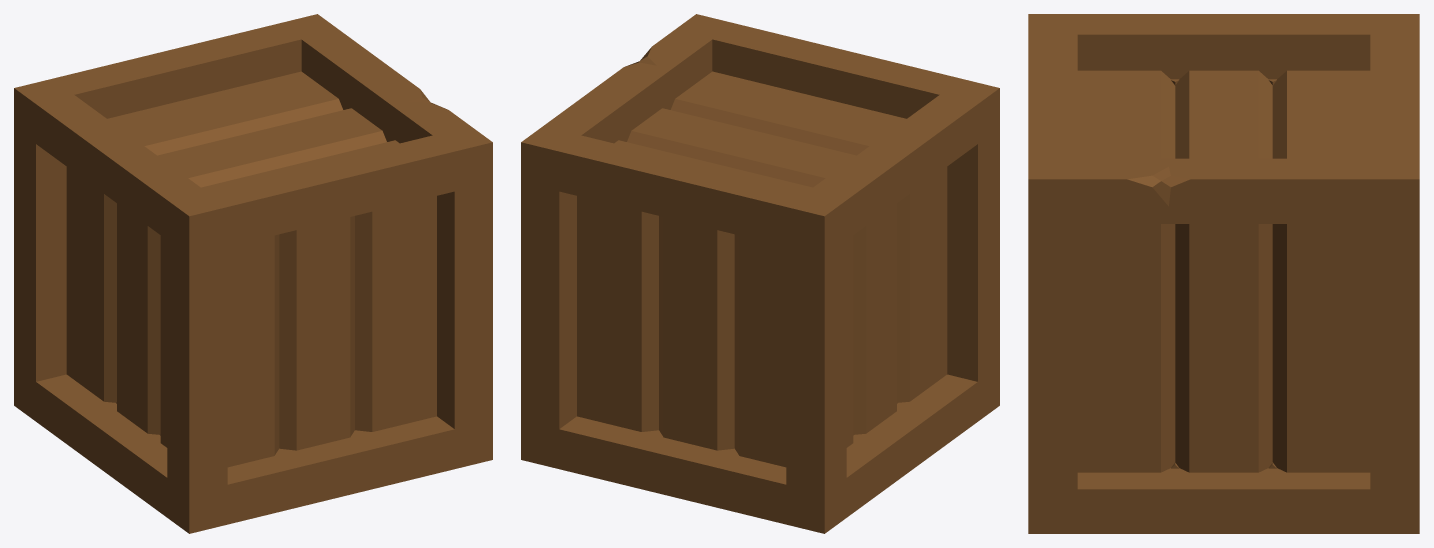
File: woodbox.fbx
The picture shows the model from 3 angles, left to right: view 1: azimuth 30°, elevation 25°; view 2: azimuth 150°, elevation 25°; view 3: azimuth 270°, elevation 25°; orthographic projection. The views are drawn at different scales.
Visible parts, largest first — view 1: Cube; view 2: Cube; view 3: Cube.
Part boxes in pixels (box(x1,y1,x2,y2)): Cube: box(14, 14, 492, 533); Cube: box(521, 14, 999, 533); Cube: box(1028, 14, 1419, 533).
Size of the model in its own units: 120 by 120 by 120.
